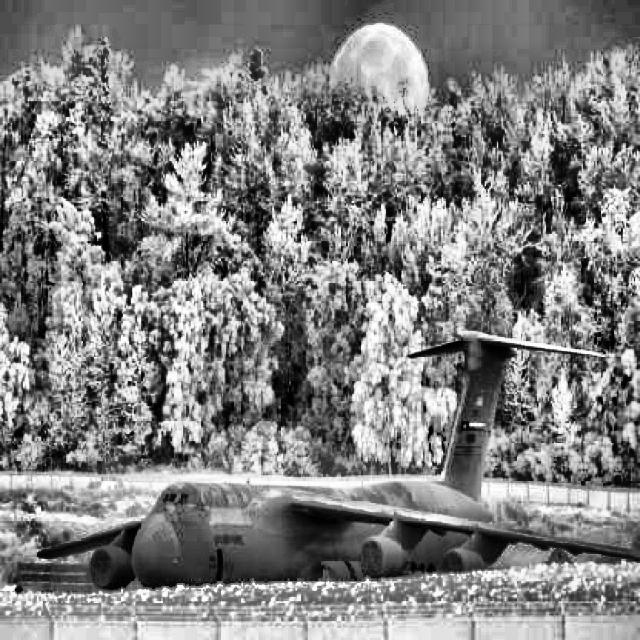C5: (37, 330, 640, 592)
